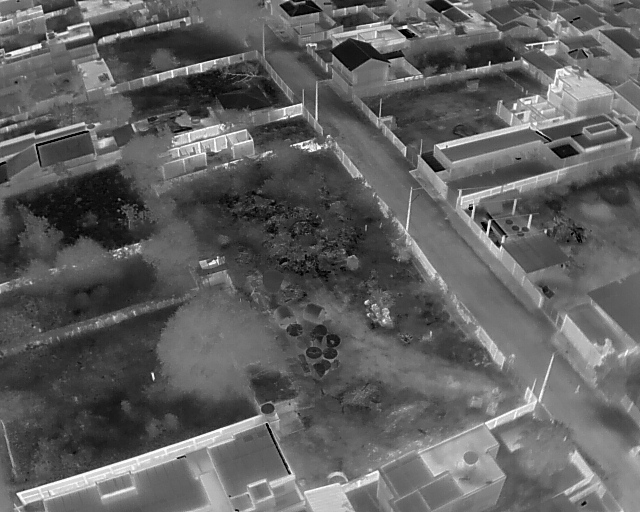car: (525, 278, 562, 296), (525, 142, 541, 158), (509, 146, 525, 162), (622, 446, 640, 459)
person: (585, 357, 596, 374), (506, 349, 517, 365), (572, 380, 583, 396)
